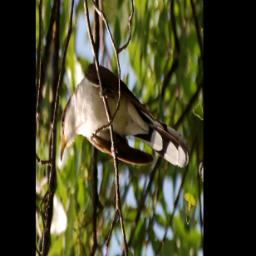Cuckoo: (56, 37, 193, 248)
